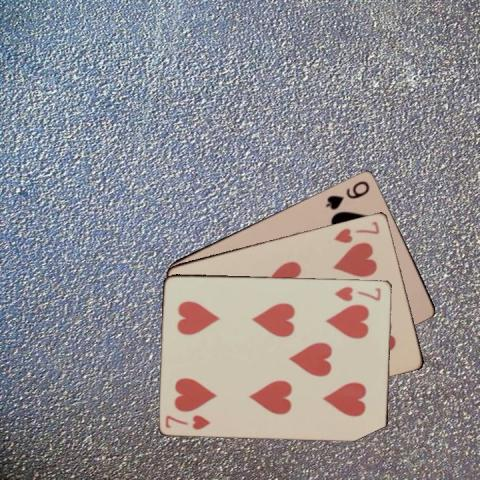7h: (331, 218, 382, 245), (332, 282, 382, 302), (163, 412, 212, 431)
9s: (322, 178, 371, 212)
